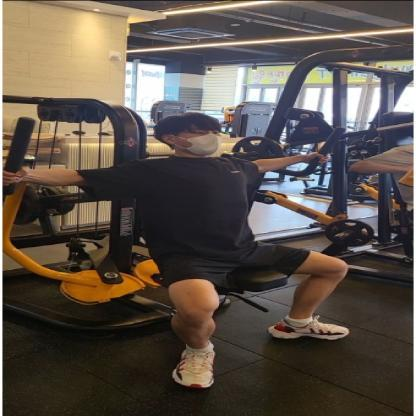chest fly machine: (0, 62, 416, 416)
